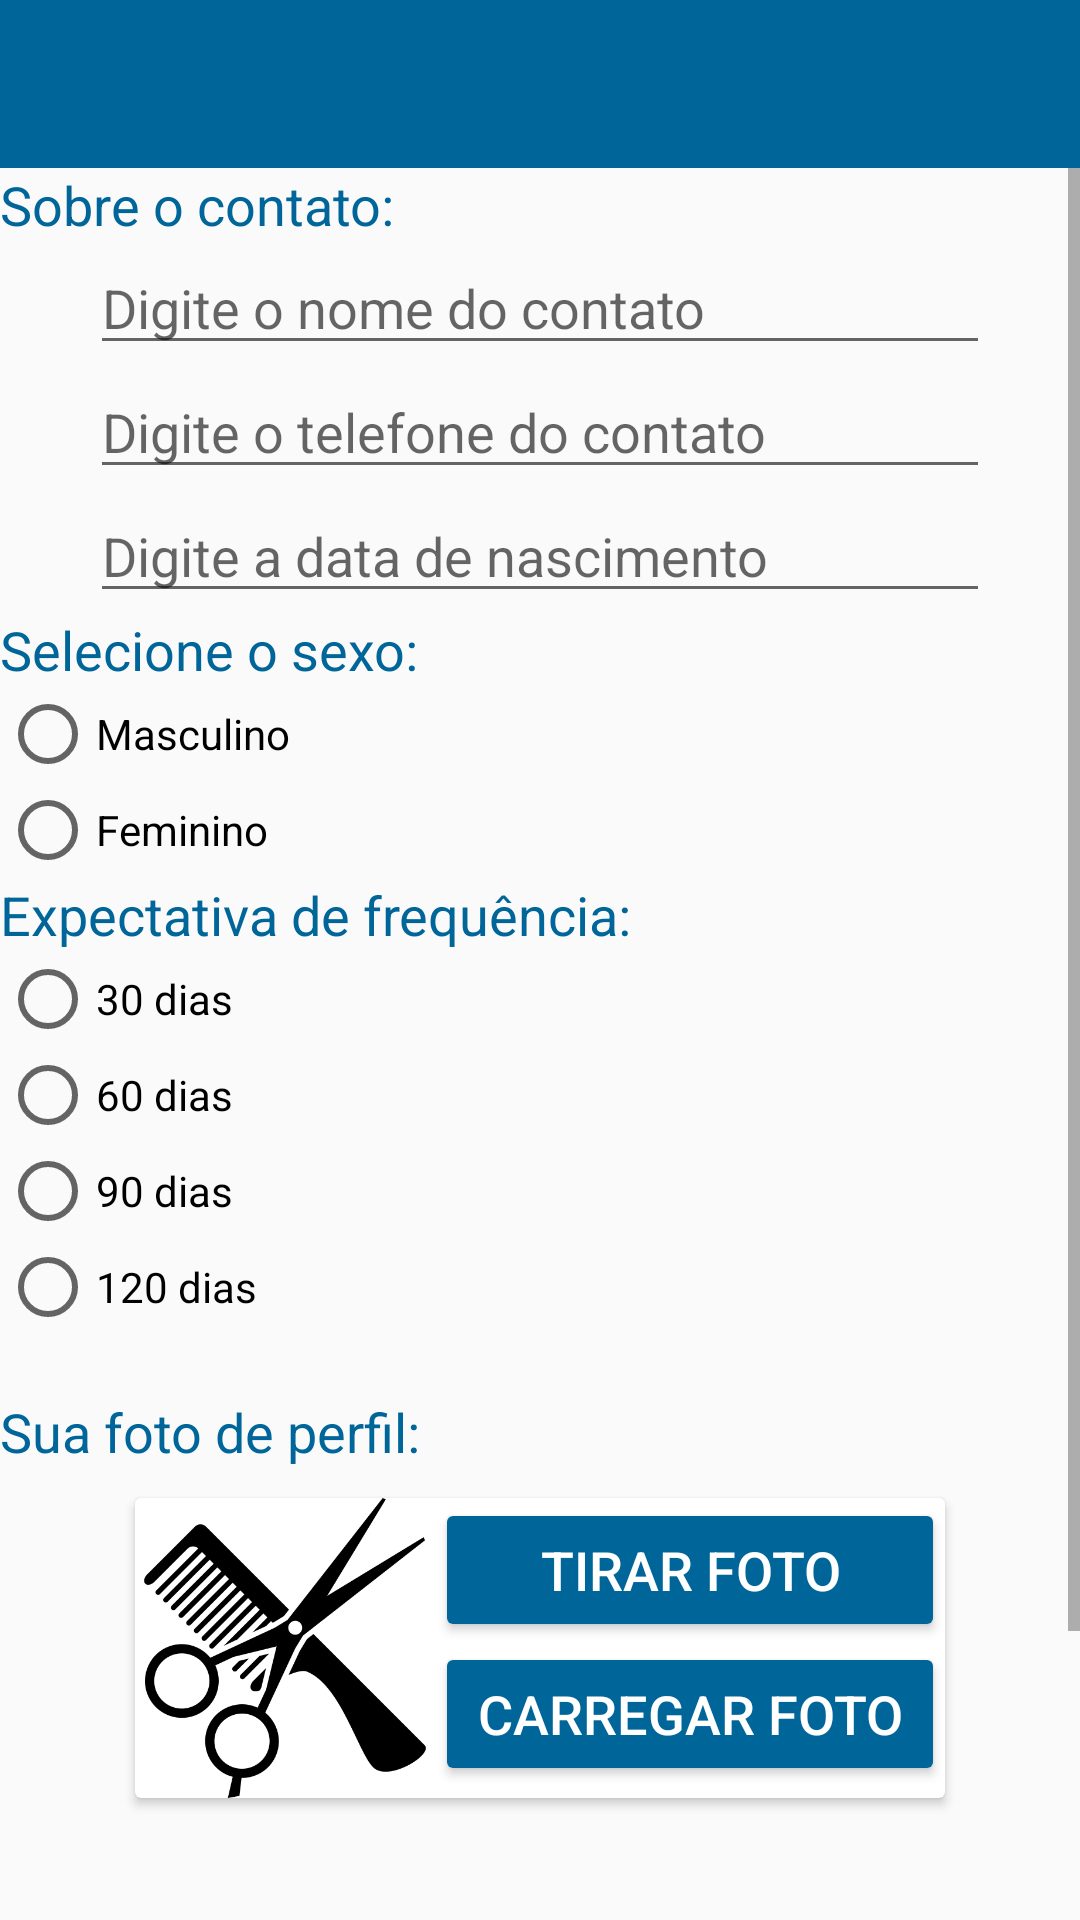

Locate icon controls on the screen. Image size 1080*1920, boxes as (x1, y1, x2, y2).
saloon: (144, 1524, 426, 1772)
